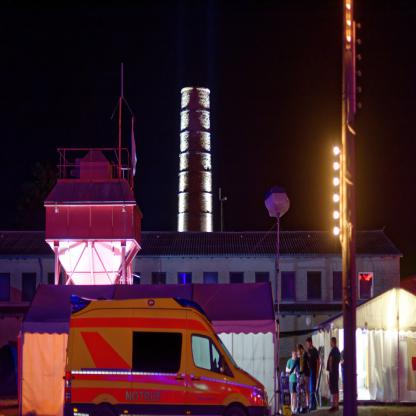Ambulance: (60, 289, 276, 413)
